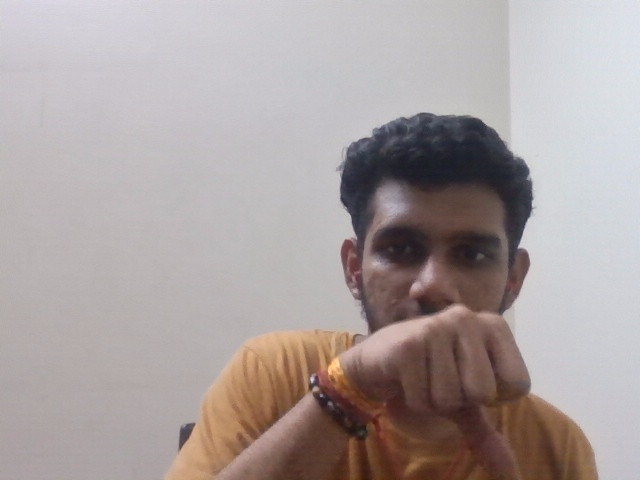yes: (335, 303, 582, 471)
